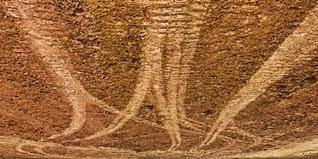vehicle_track: (0, 0, 205, 139), (65, 0, 190, 151), (198, 4, 318, 146), (177, 0, 213, 132)
